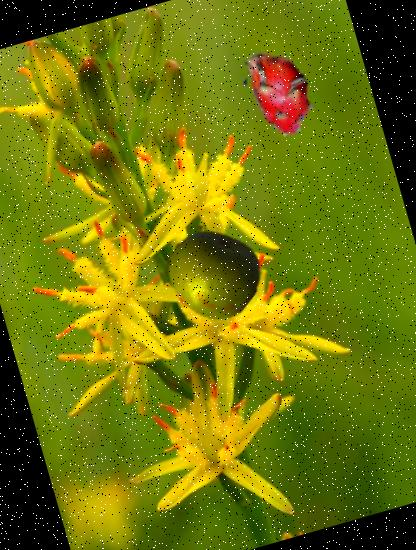Pitahaya: (221, 34, 335, 148)
Pomelo: (156, 214, 272, 330)
